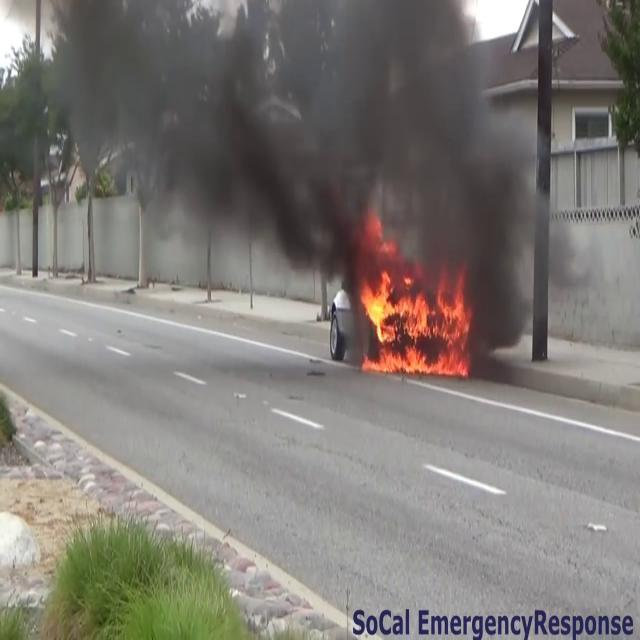Fire: (356, 260, 474, 380)
Smoke: (49, 0, 538, 276)
